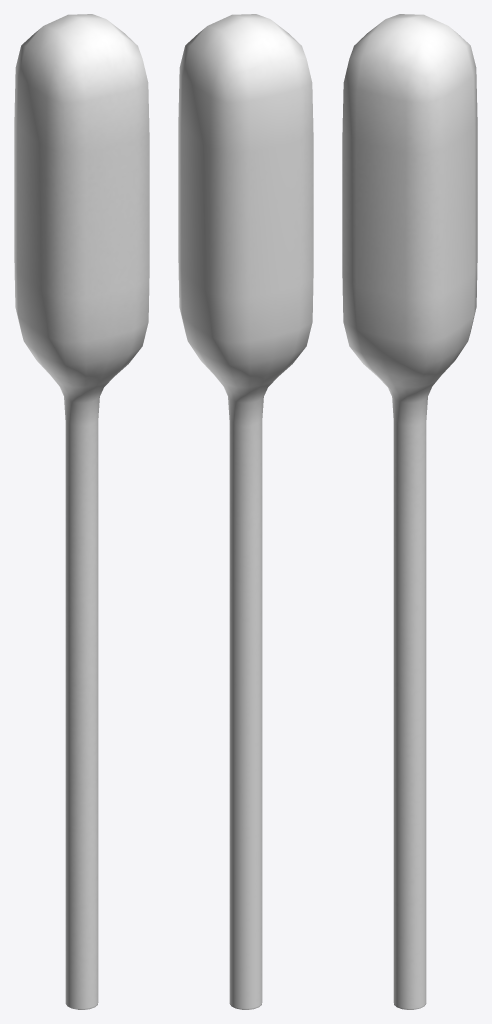
Rendered from cattail_c_00.obj.
3 renders of one model, left to right at view 1: azimuth 30°, elevation 25°; view 2: azimuth 210°, elevation 25°; view 3: azimuth 330°, elevation 25°, orthographic.
Size of the model in its own units: 0.2506 by 2.29 by 0.2506.
